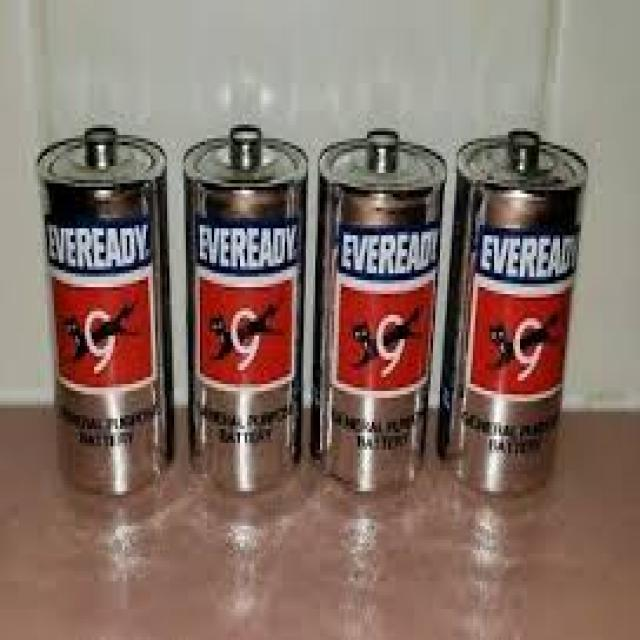hazard: (49, 114, 570, 492)
